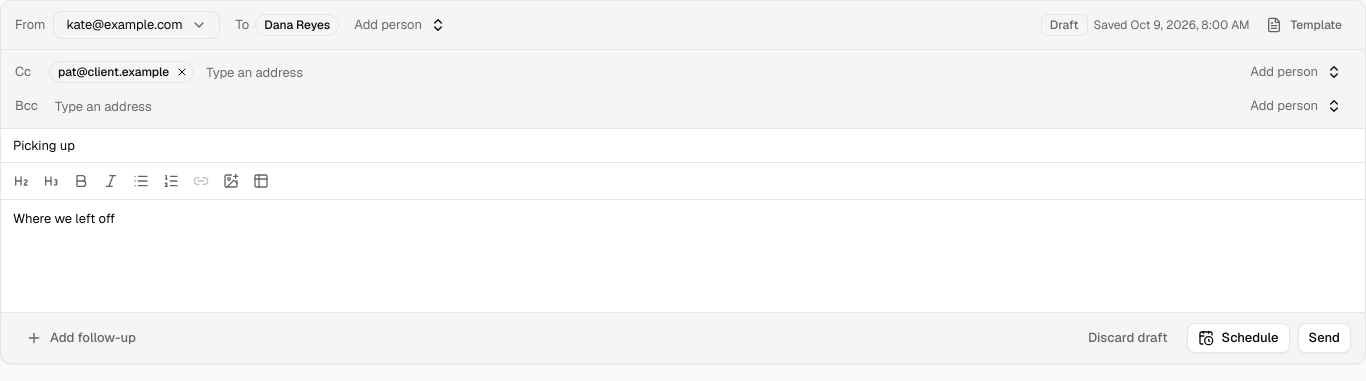
Test case: drafts: saved as you write, on leaving, and put back › opens with the draft — subject, message, cc — and sending it names the draft, which goes with it
Expected: the field named "Subject" reads "Picking up", [13, 137, 75, 154]
Expected: the field named "Message" reads "Where we left off", [13, 210, 115, 227]
Click the button "Send": (1324, 338) [1298, 323, 1351, 353]
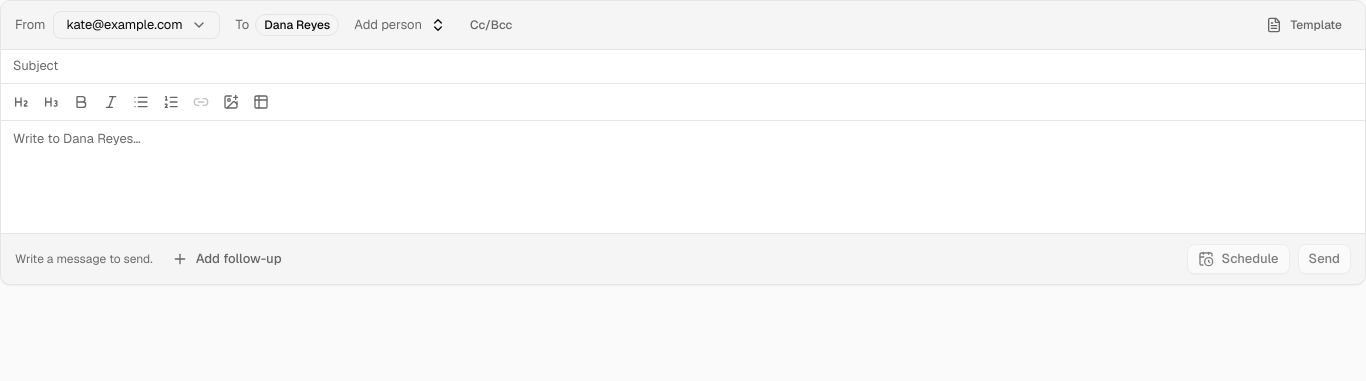
Result: the field named "Subject" no longer shows "Picking up" at [1, 50, 1365, 83]
Result: the text "Draft" is gone
